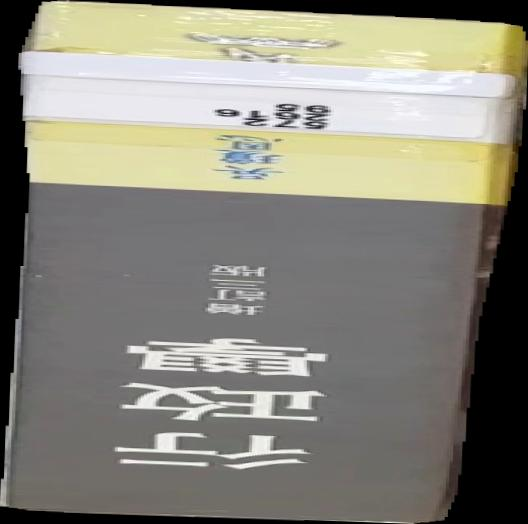reverse: (1, 1, 528, 524)
